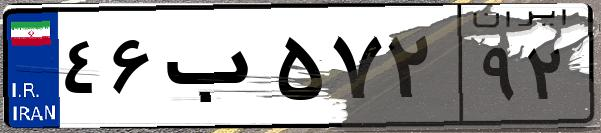2: (385, 28, 445, 110), (525, 38, 570, 115)
4: (57, 26, 110, 100)
5: (270, 28, 330, 110)
6: (110, 28, 158, 98)
7: (330, 28, 385, 110)
9: (475, 38, 525, 113)
ب: (158, 20, 270, 120)
